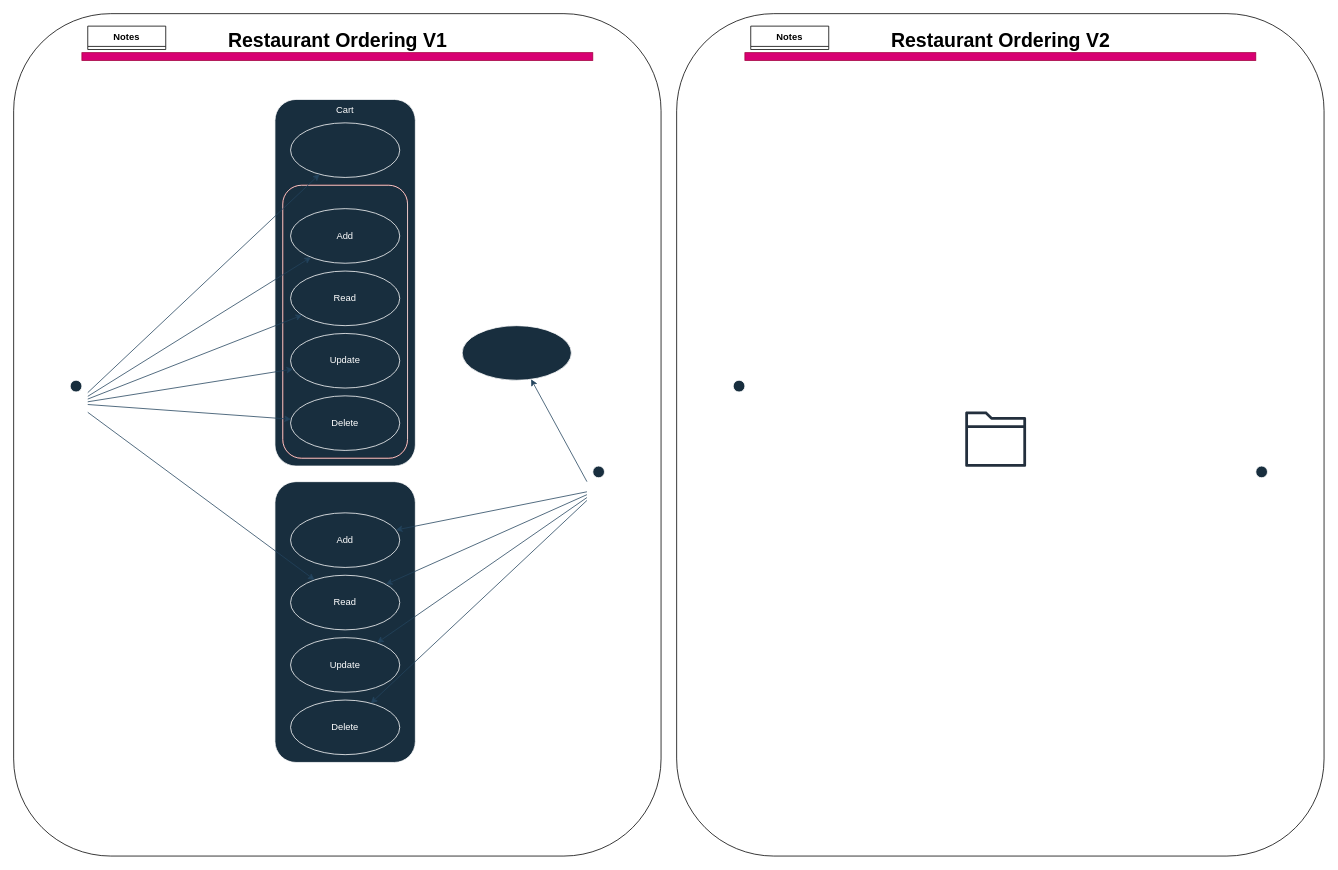
Some shapes in this 1338 by 870 pixel diagram are drawn without their labels. Each missing label, with the box of its shape:
Deliver Order: (461, 325, 571, 380)
Item: (282, 184, 408, 458)
Restaurant Menu: (274, 481, 415, 762)
Submit: (290, 122, 400, 177)
